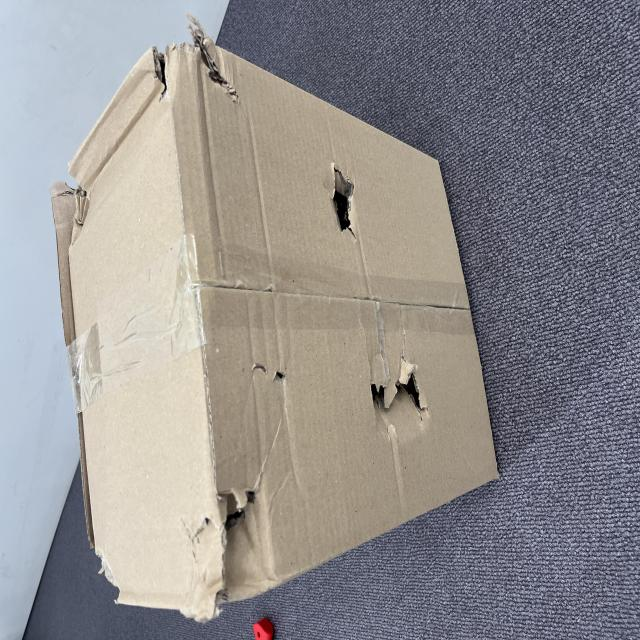damaged: (43, 257, 118, 359), (398, 193, 459, 307), (153, 491, 209, 576), (308, 439, 359, 480)
